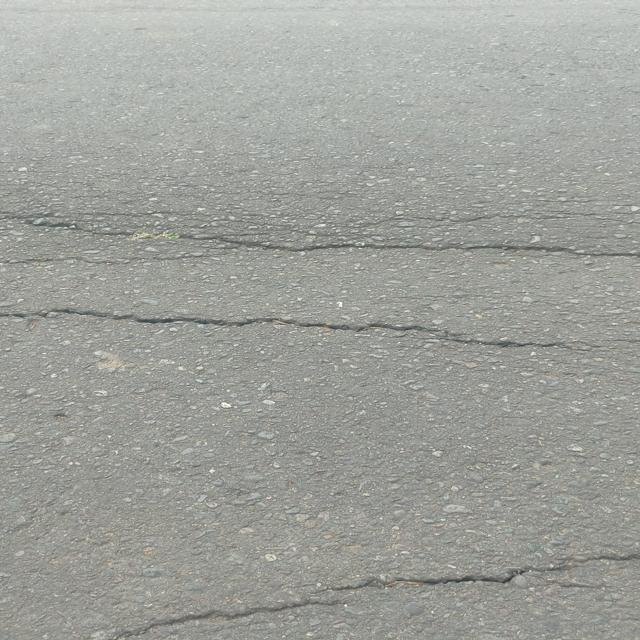Melintang: (84, 537, 640, 640), (0, 198, 640, 269), (0, 296, 588, 365)
